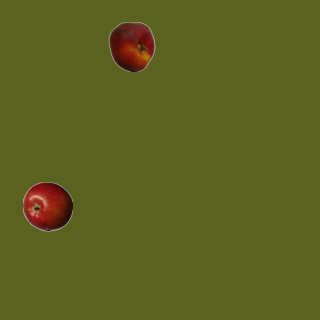Apple Braeburn: (22, 181, 72, 231)
Nectarine Flat: (106, 21, 156, 71)
